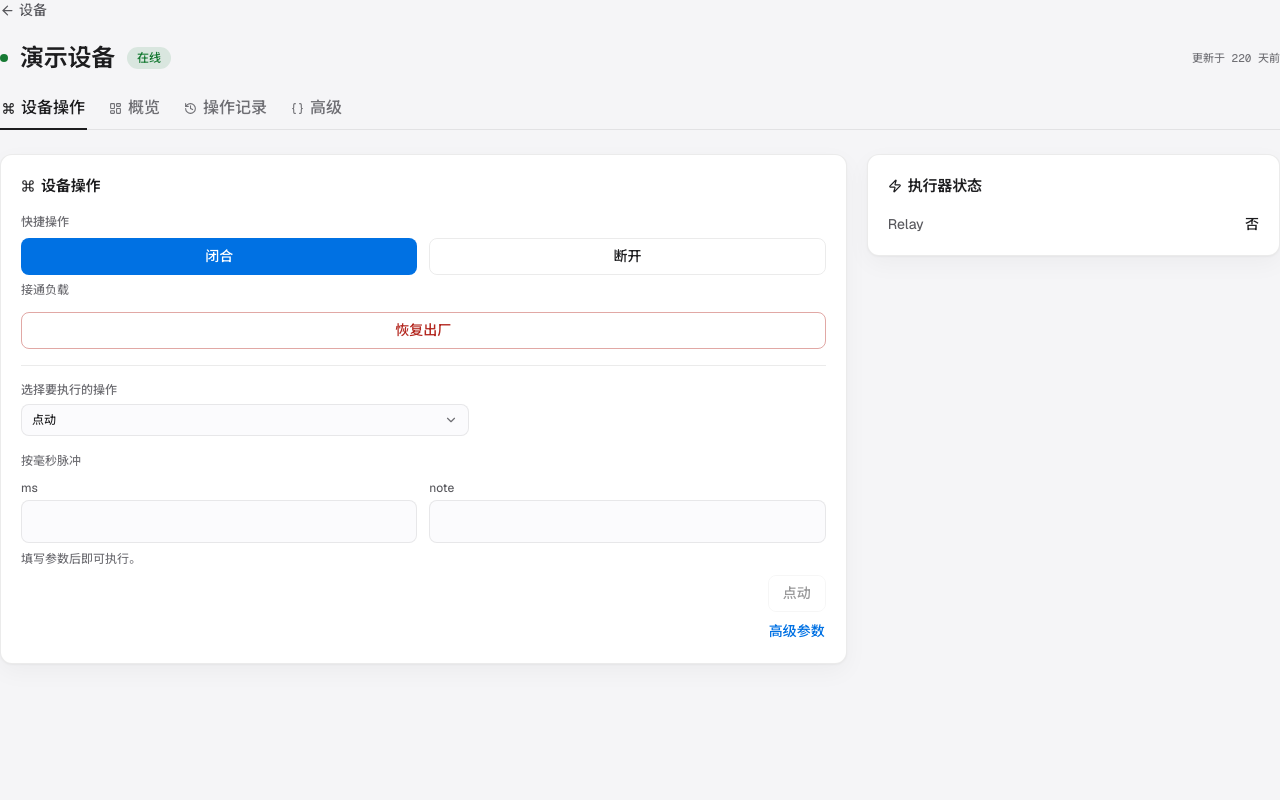
Test: 有设备能力声明时以声明为准 › 危险声明动作带二次确认，文案逐字取自声明
Expected: the heading "演示设备" is shown, top-left (20, 40), bottom-right (115, 76)
Click the tab "设备操作" at (44, 113), box top-left (0, 96), bottom-right (87, 130)
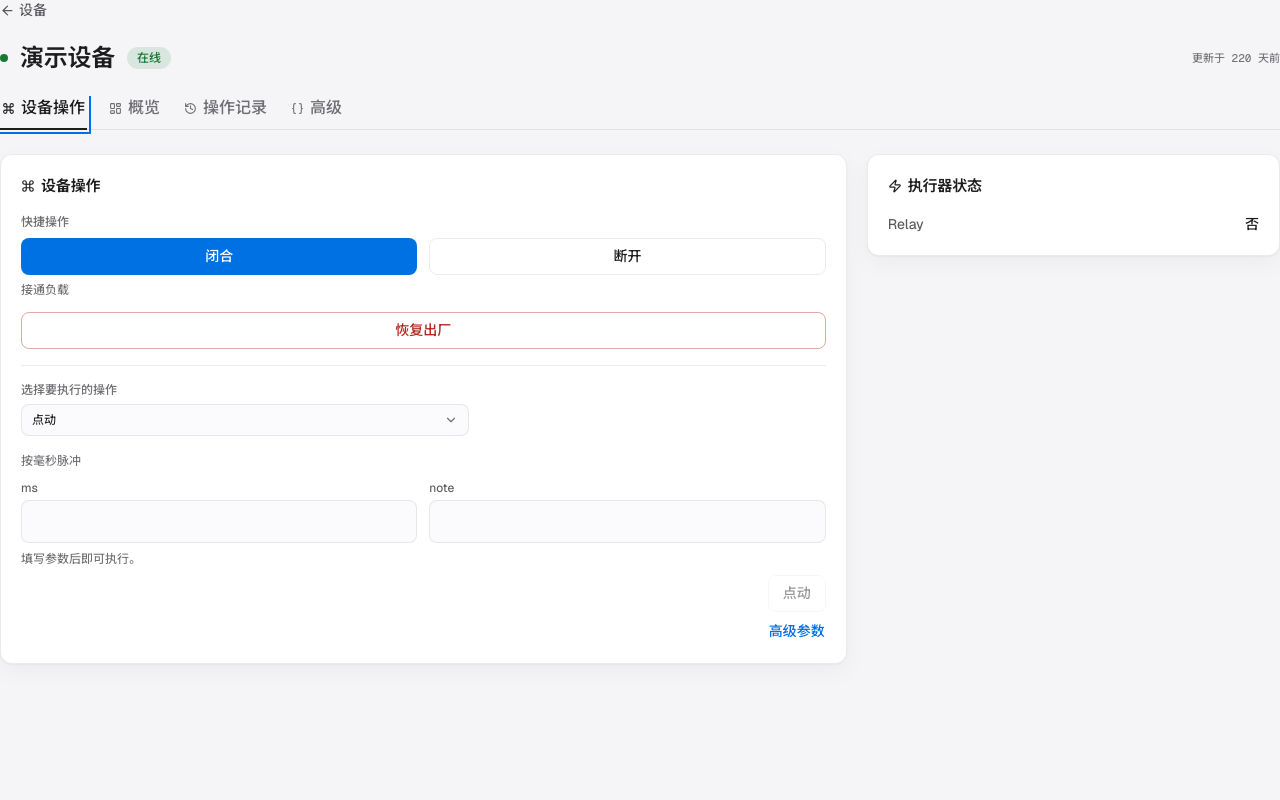
Click the button "恢复出厂" at (423, 330), box top-left (21, 312), bottom-right (826, 349)
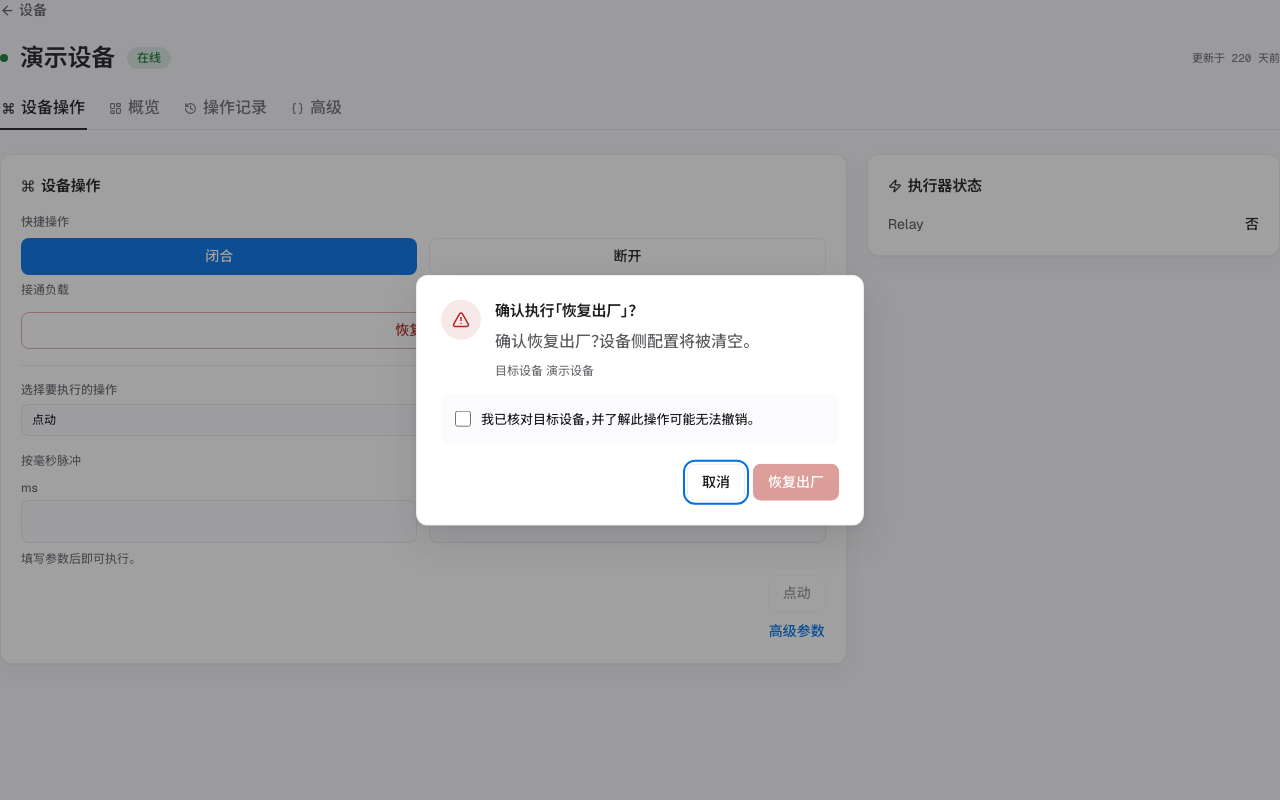
Result: the dialog shows "确认恢复出厂？设备侧配置将被清空。" at top-left (495, 330), bottom-right (751, 351)
Result: the dialog shows "演示设备" at top-left (495, 362), bottom-right (594, 378)
Result: the button "恢复出厂" is disabled at top-left (753, 463), bottom-right (839, 500)
